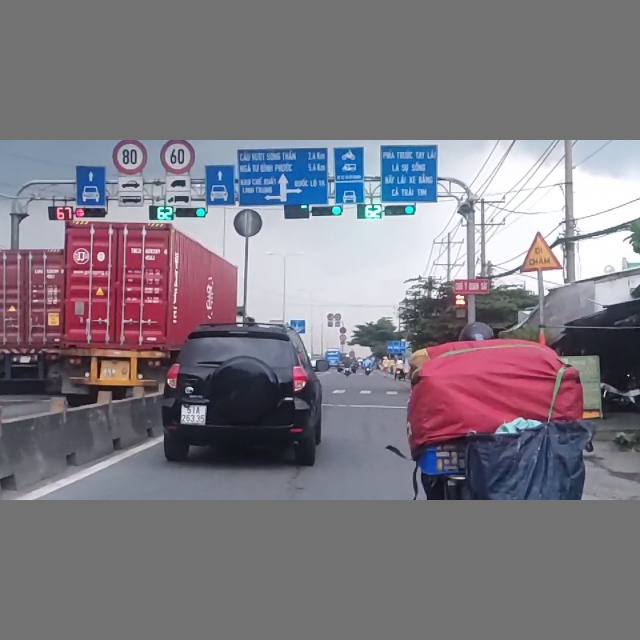P.127*60: (160, 141, 195, 174)
P.127*80: (112, 141, 147, 175)
W.245a: (519, 231, 562, 273)
